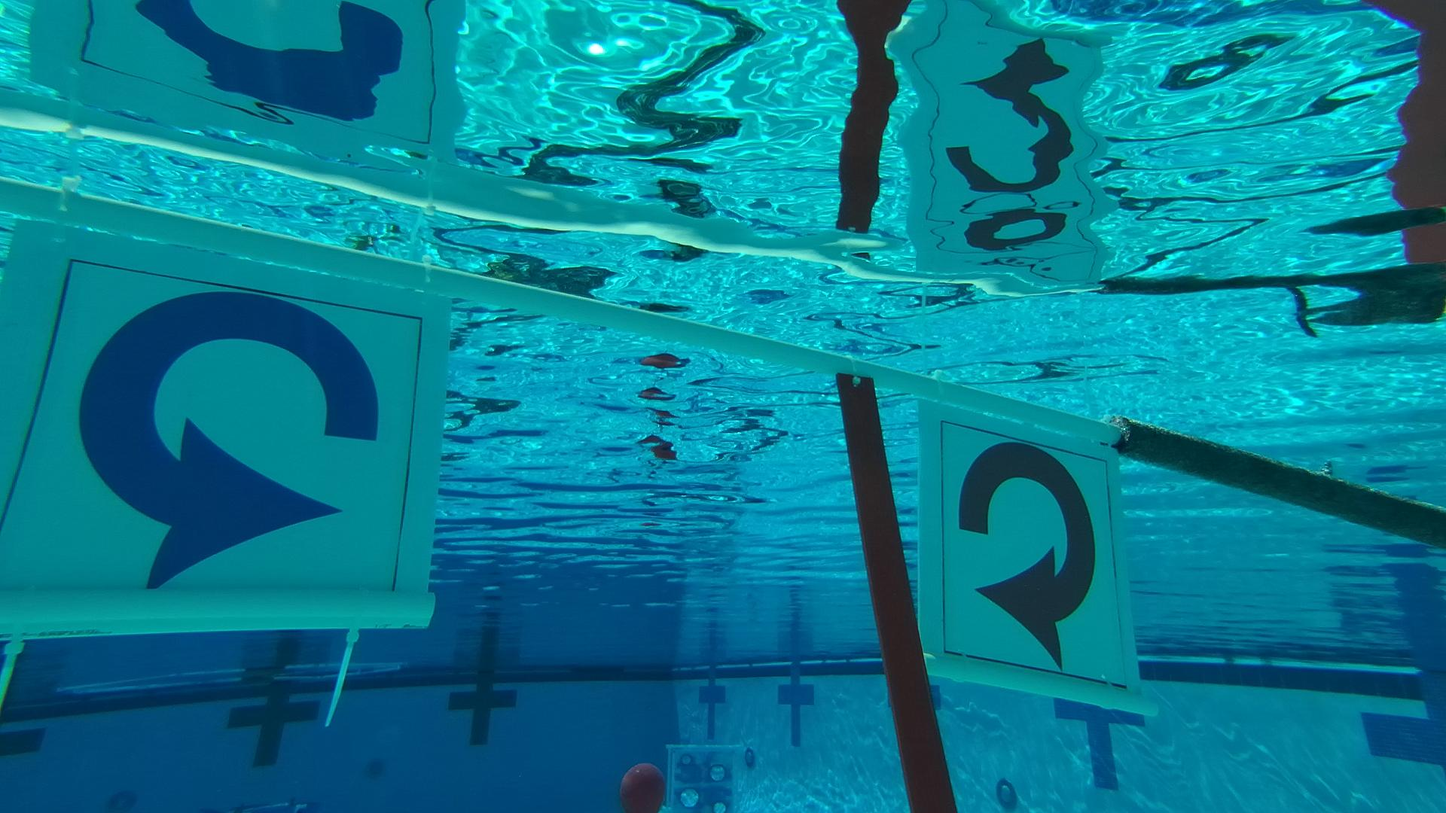blue-gate-sign: (14, 241, 419, 616)
buoy: (618, 761, 666, 811)
red octagon: (681, 784, 698, 807), (709, 766, 726, 783), (680, 752, 693, 768), (712, 802, 728, 813)
red-gate-sign: (914, 390, 1150, 710)
